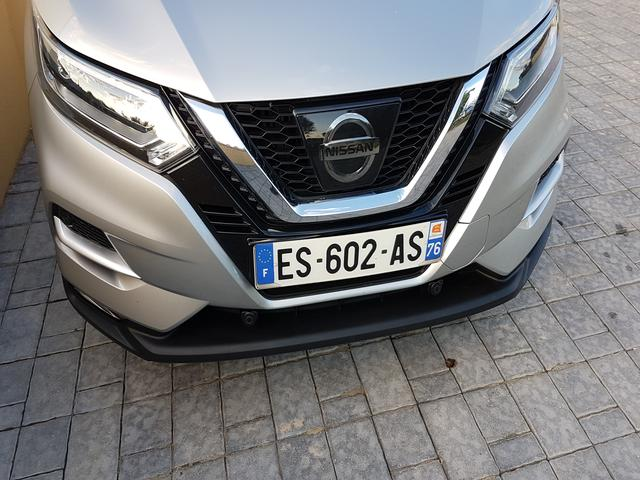Quashquai: (243, 202, 470, 305)
